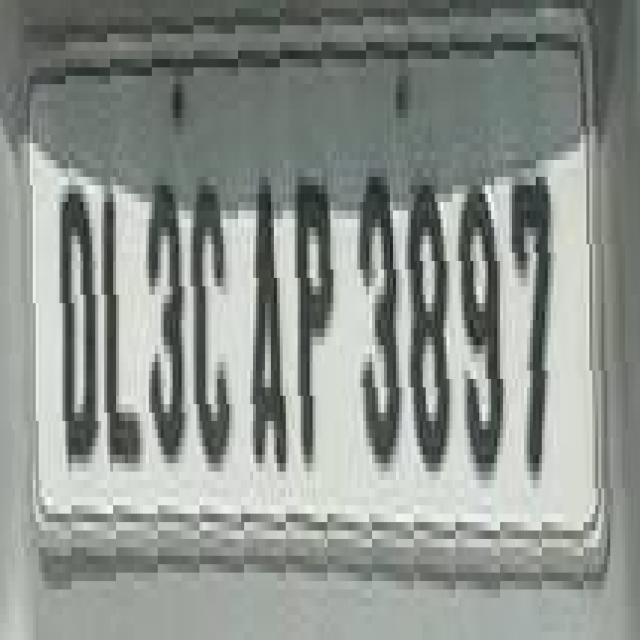plate: (18, 17, 598, 564)
